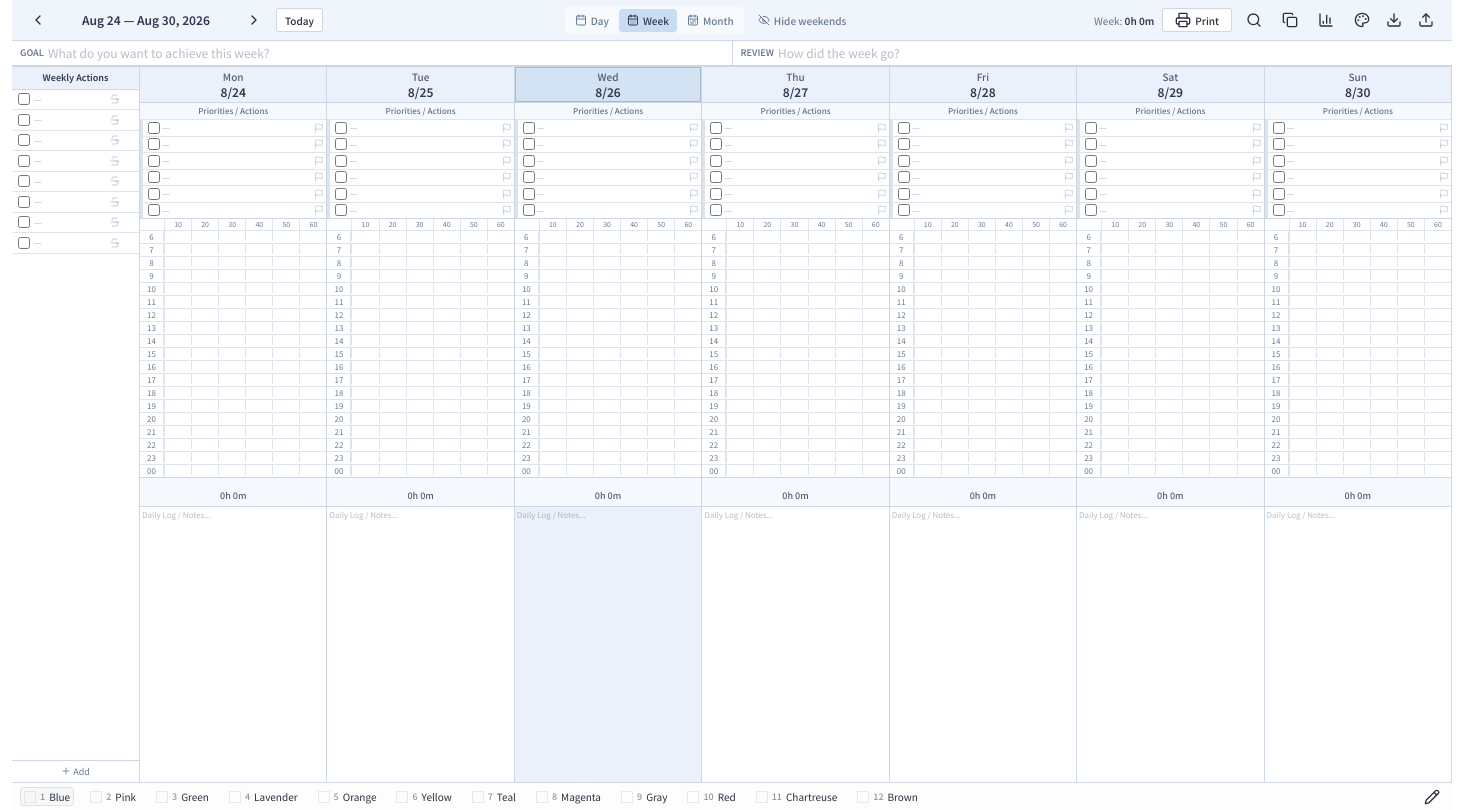
Test: opening the day view for the first time › lands on today, not on the week's Monday
The width and height of the screenshot is (1464, 810).
Click the button "Day": {"x": 592, "y": 20} [567,8,617,32]
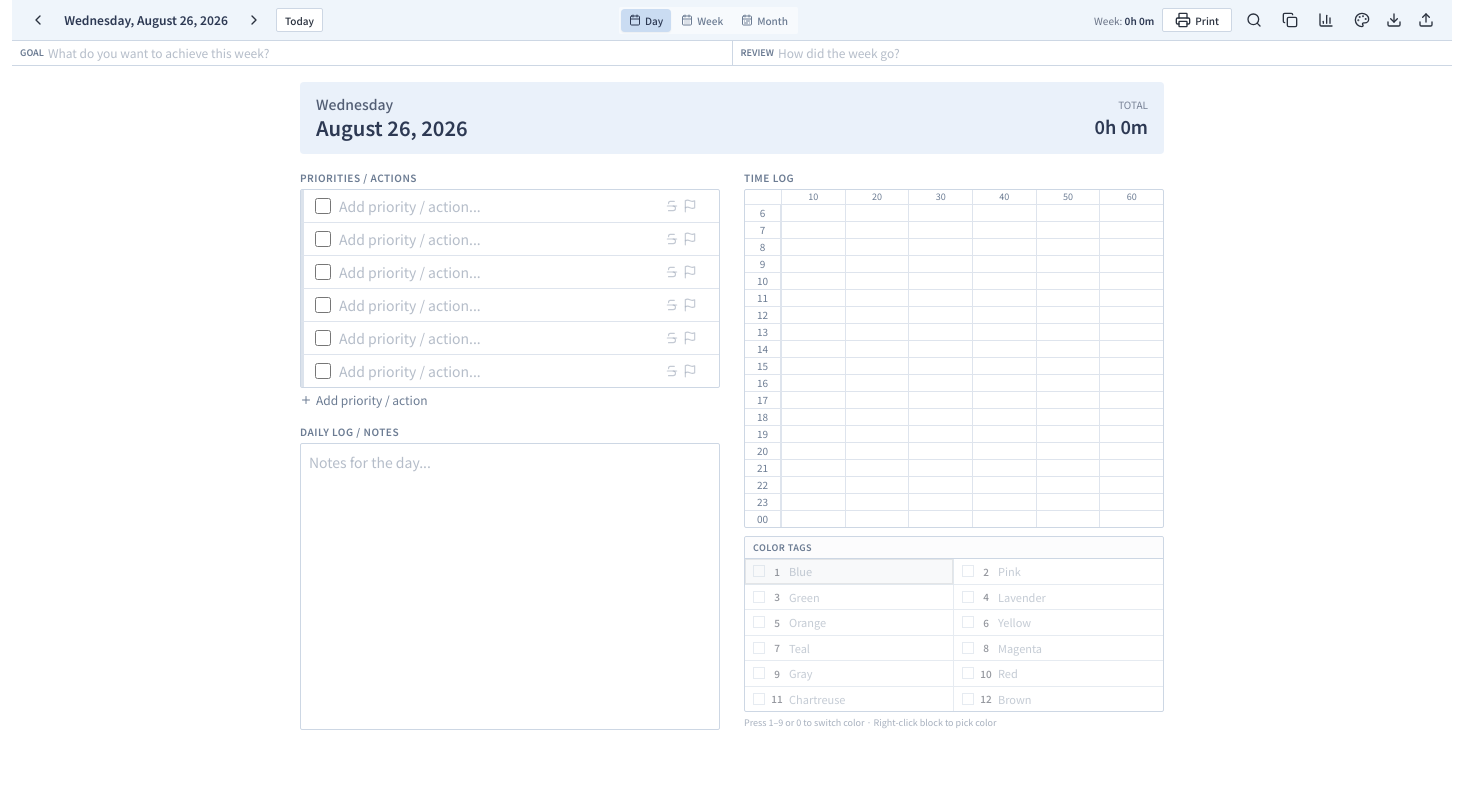
Result: the text with class "font-semibold" reads "Wednesday, August 26, 2026" at [64,11,228,28]
